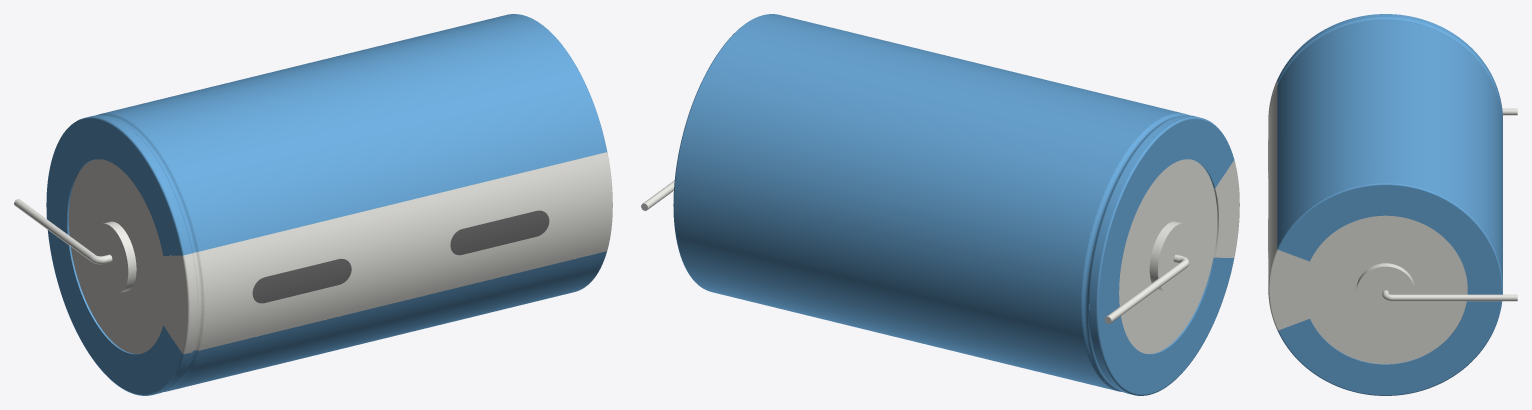
File: CP_Axial_L55.0mm_D32.0mm_P60.00mm_Horizontal.glb
3 renders of one model, left to right at view 1: azimuth 30°, elevation 25°; view 2: azimuth 150°, elevation 25°; view 3: azimuth 270°, elevation 25°, orthographic. The views are drawn at different scales.
Parts seen in each view (by area): view 1: Shape_IndexedFaceSet.009, Shape_IndexedFaceSet.049, Shape_IndexedFaceSet.006, Shape_IndexedFaceSet.064, Shape_IndexedFaceSet.028, Shape_IndexedFaceSet.018, Shape_IndexedFaceSet.041, Shape_IndexedFaceSet.062, Shape_IndexedFaceSet, Shape_IndexedFaceSet.005, Shape_IndexedFaceSet.003, Shape_IndexedFaceSet.051 (+4 smaller); view 2: Shape_IndexedFaceSet.009, Shape_IndexedFaceSet.006, Shape_IndexedFaceSet.064, Shape_IndexedFaceSet, Shape_IndexedFaceSet.041, Shape_IndexedFaceSet.005, Shape_IndexedFaceSet.062, Shape_IndexedFaceSet.003, Shape_IndexedFaceSet.007, Shape_IndexedFaceSet.051, Shape_IndexedFaceSet.063, Shape_IndexedFaceSet.002; view 3: Shape_IndexedFaceSet.009, Shape_IndexedFaceSet.012, Shape_IndexedFaceSet.059, Shape_IndexedFaceSet.046, Shape_IndexedFaceSet.057, Shape_IndexedFaceSet.049, Shape_IndexedFaceSet.011, Shape_IndexedFaceSet.055, Shape_IndexedFaceSet, Shape_IndexedFaceSet.005, Shape_IndexedFaceSet.002, Shape_IndexedFaceSet.058.
Boxes of the visible parts, left/top/right/bottom form: Shape_IndexedFaceSet.009: left=102, top=14, right=606, bottom=390; Shape_IndexedFaceSet.049: left=199, top=152, right=611, bottom=350; Shape_IndexedFaceSet.006: left=46, top=119, right=182, bottom=394; Shape_IndexedFaceSet.064: left=68, top=159, right=166, bottom=353; Shape_IndexedFaceSet.028: left=450, top=210, right=549, bottom=255; Shape_IndexedFaceSet.018: left=252, top=259, right=351, bottom=303; Shape_IndexedFaceSet.041: left=163, top=255, right=187, bottom=352; Shape_IndexedFaceSet.062: left=92, top=223, right=128, bottom=293; Shape_IndexedFaceSet: left=88, top=115, right=191, bottom=393; Shape_IndexedFaceSet.005: left=99, top=114, right=197, bottom=390; Shape_IndexedFaceSet.003: left=46, top=117, right=184, bottom=395; Shape_IndexedFaceSet.051: left=14, top=199, right=94, bottom=260; Shape_IndexedFaceSet.009: left=674, top=14, right=1183, bottom=390; Shape_IndexedFaceSet.006: left=1098, top=119, right=1233, bottom=394; Shape_IndexedFaceSet.064: left=1119, top=159, right=1217, bottom=353; Shape_IndexedFaceSet: left=1089, top=115, right=1198, bottom=394; Shape_IndexedFaceSet.041: left=1215, top=160, right=1239, bottom=257; Shape_IndexedFaceSet.005: left=1083, top=114, right=1186, bottom=390; Shape_IndexedFaceSet.062: left=1158, top=223, right=1193, bottom=293; Shape_IndexedFaceSet.003: left=1096, top=117, right=1234, bottom=395; Shape_IndexedFaceSet.007: left=1081, top=113, right=1189, bottom=391; Shape_IndexedFaceSet.051: left=1106, top=260, right=1187, bottom=322; Shape_IndexedFaceSet.063: left=1149, top=221, right=1182, bottom=292; Shape_IndexedFaceSet.002: left=1088, top=115, right=1184, bottom=388; Shape_IndexedFaceSet.009: left=1277, top=20, right=1502, bottom=283; Shape_IndexedFaceSet.012: left=1279, top=185, right=1501, bottom=394; Shape_IndexedFaceSet.059: left=1303, top=215, right=1467, bottom=364; Shape_IndexedFaceSet.046: left=1270, top=250, right=1309, bottom=329; Shape_IndexedFaceSet.057: left=1356, top=266, right=1414, bottom=319; Shape_IndexedFaceSet.049: left=1268, top=86, right=1277, bottom=283; Shape_IndexedFaceSet.011: left=1277, top=183, right=1502, bottom=395; Shape_IndexedFaceSet.055: left=1392, top=294, right=1517, bottom=301; Shape_IndexedFaceSet: left=1277, top=14, right=1502, bottom=117; Shape_IndexedFaceSet.005: left=1278, top=18, right=1498, bottom=95; Shape_IndexedFaceSet.002: left=1277, top=16, right=1502, bottom=120; Shape_IndexedFaceSet.058: left=1356, top=263, right=1414, bottom=290.
Size of the model in its own units: 23.97 by 12.6 by 13.39.
